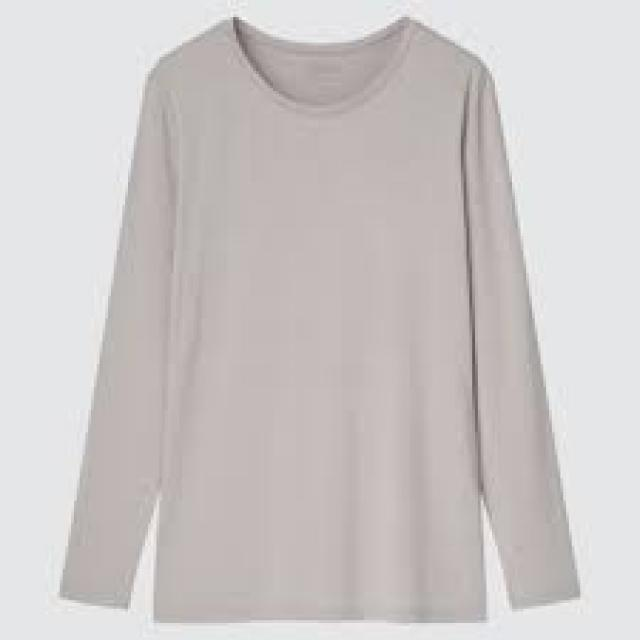plain: (56, 27, 580, 628)
